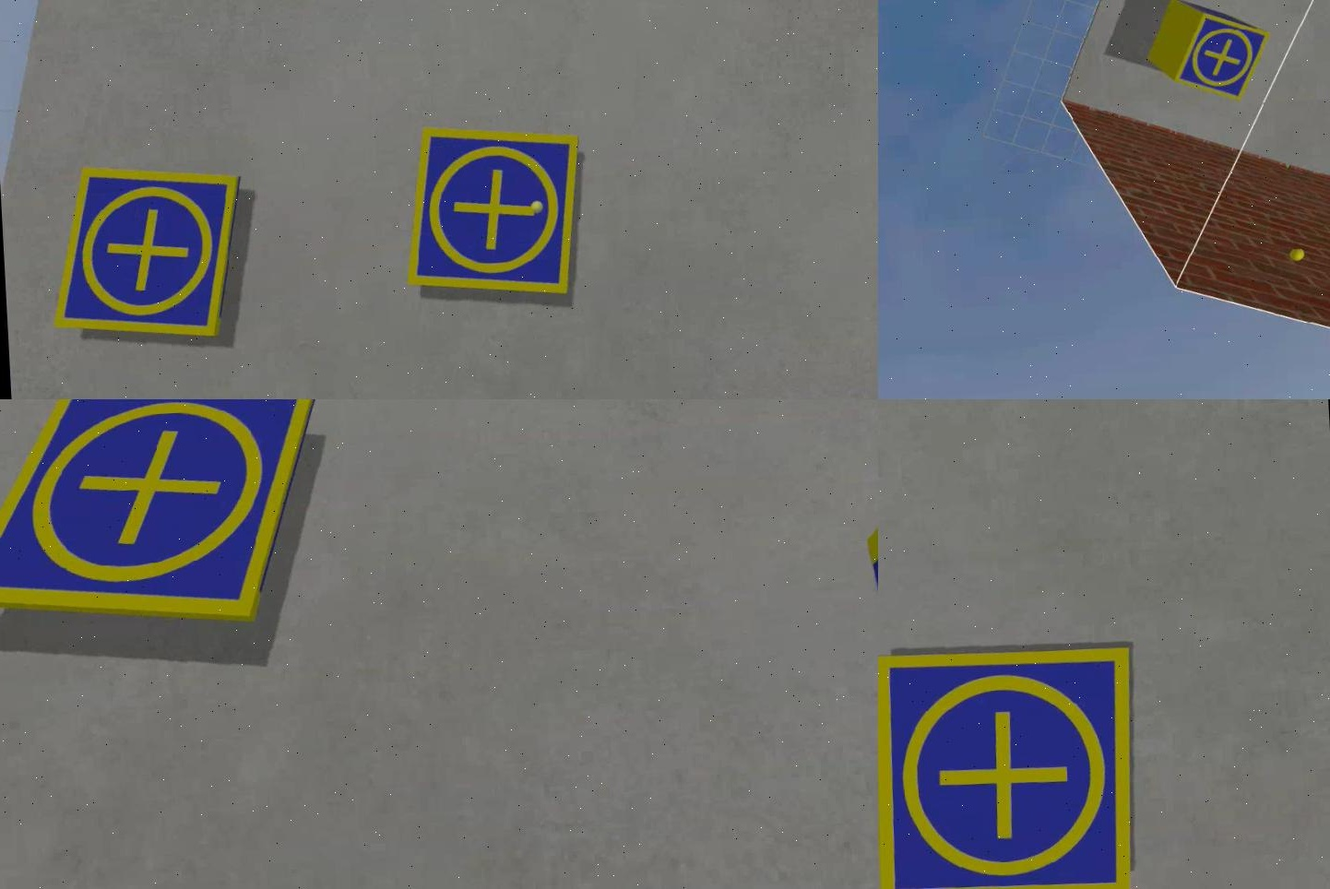small_base: (0, 400, 329, 639), (877, 639, 1146, 889), (42, 163, 246, 352), (397, 122, 581, 308), (1170, 11, 1269, 104)
